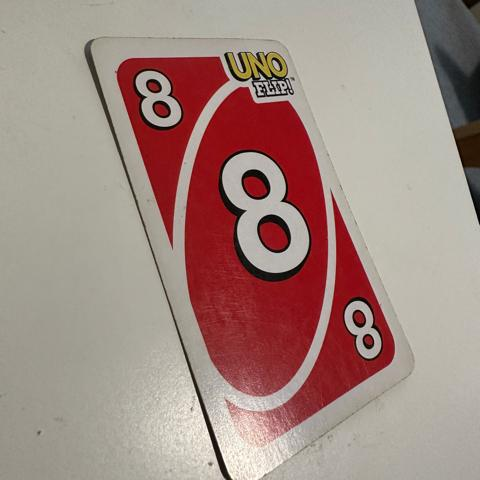0_red: (218, 153, 312, 280), (129, 68, 187, 129), (340, 300, 383, 362)
